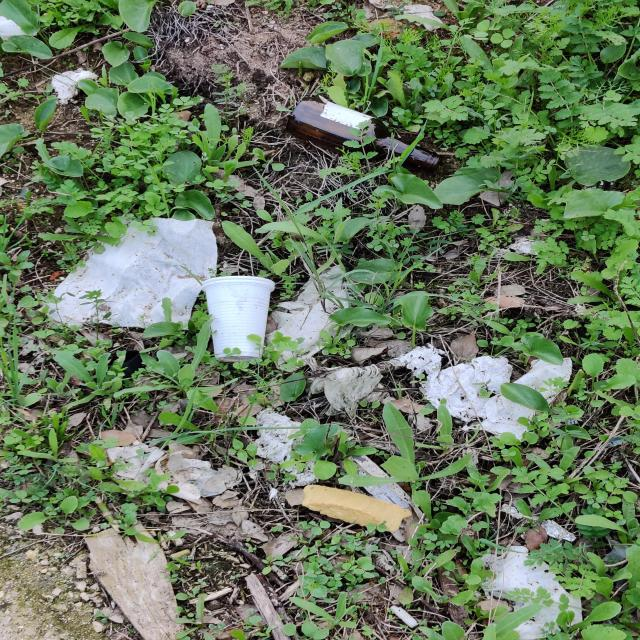litter: (29, 215, 233, 333), (403, 333, 571, 448), (276, 91, 461, 183), (189, 267, 289, 377), (299, 482, 415, 536)
